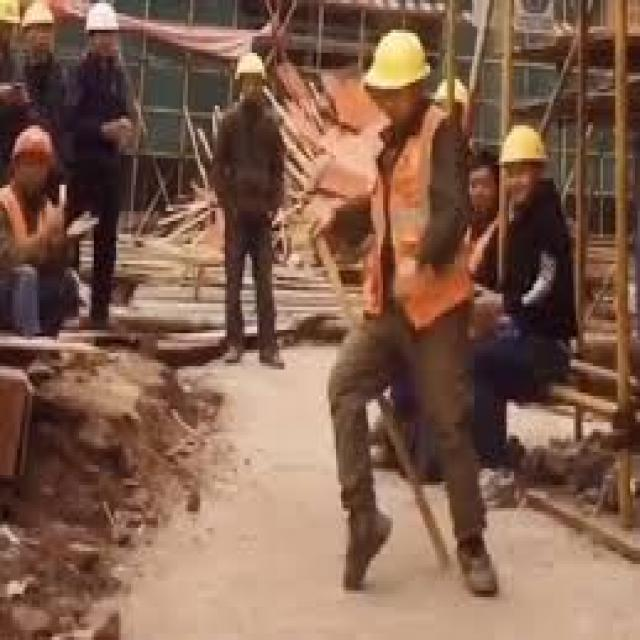Reflective-Jacket: (354, 106, 474, 347), (467, 205, 583, 366), (208, 99, 292, 241), (64, 52, 144, 194)
Safety-Helmet: (356, 16, 442, 109), (487, 112, 561, 188), (5, 119, 57, 168), (228, 43, 274, 92), (79, 0, 126, 46), (15, 0, 62, 36)
